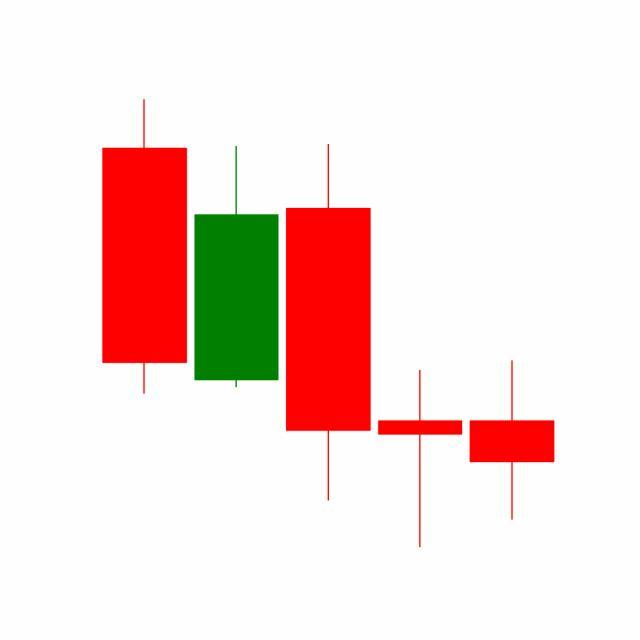Three Outside Up-Down: (190, 139, 467, 548)
